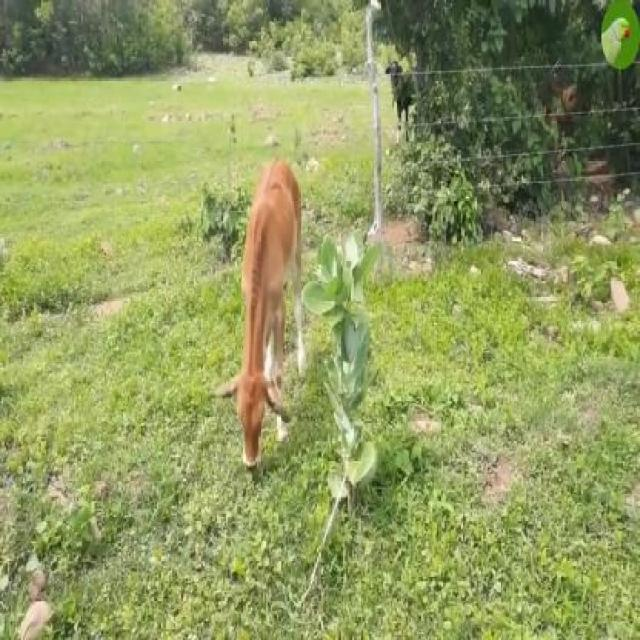Cow: (217, 156, 305, 472)
